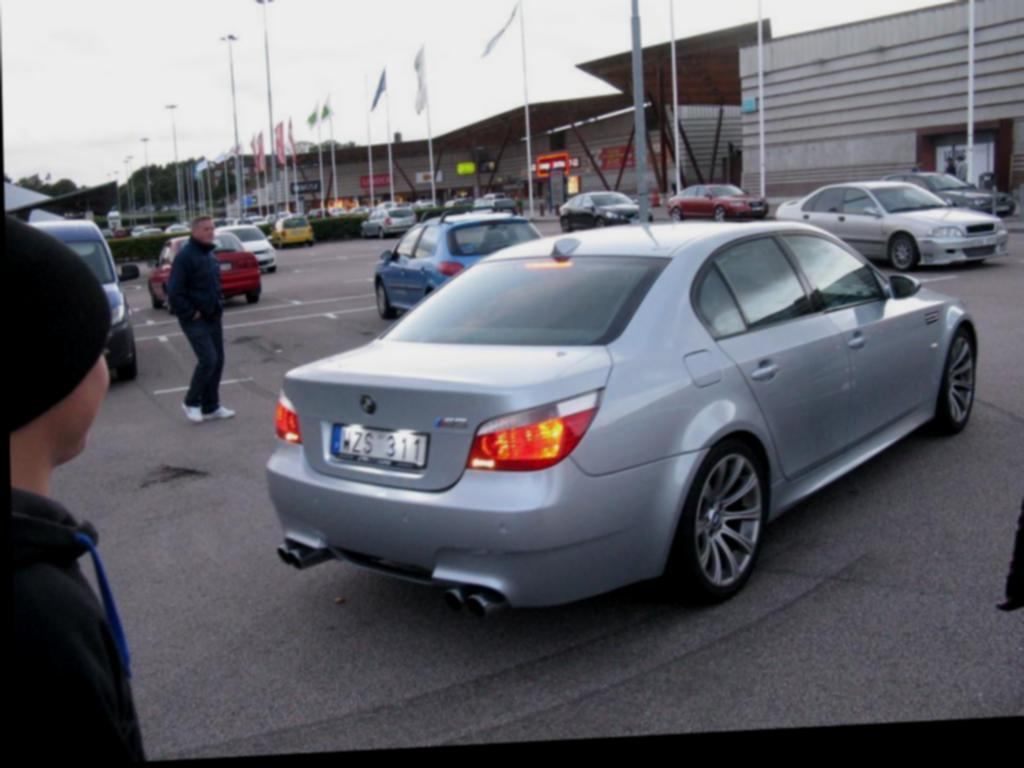License_Plate: (335, 416, 431, 474)
